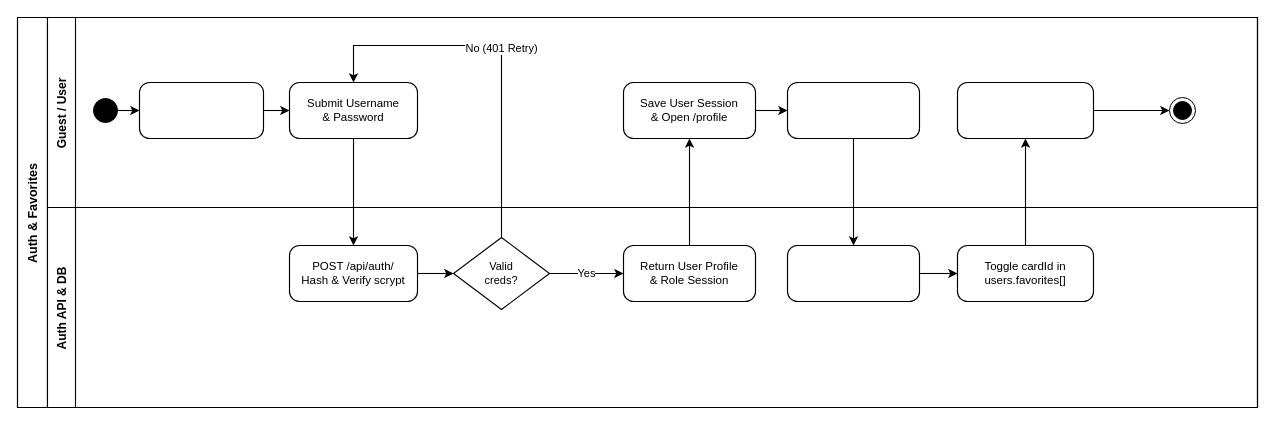
This 1276x426 diagram has some shape labels left out. The shapes that lost their labels are listed below. From the top down, each one's centre as x and y in pixels, then its label:
At (201,110): "Open /login or /register Page".
At (853,110): "Click Heart Icon (Toggle Favorite)".
At (1025,110): "View Updated Favorites Collection".
At (853,273): "POST /api/auth/ favorite/:userId".
